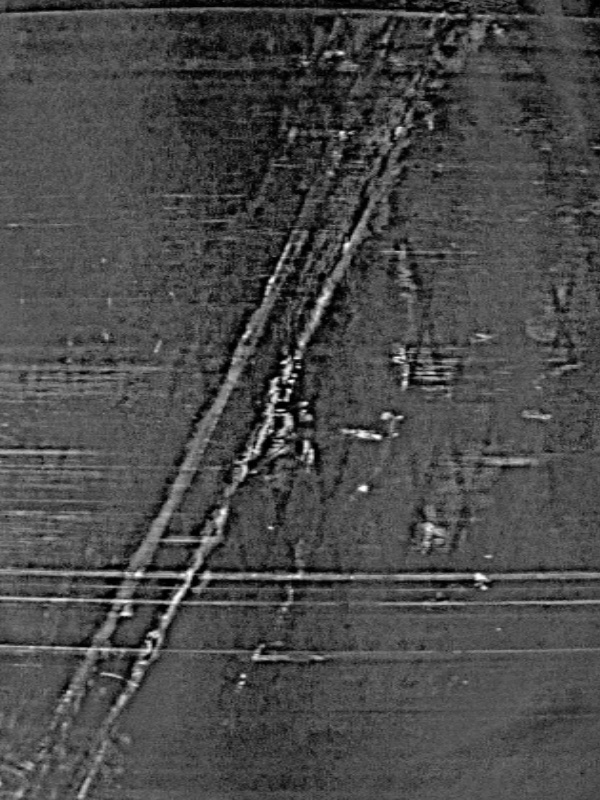splice_vulcanized: (2, 13, 453, 800)
